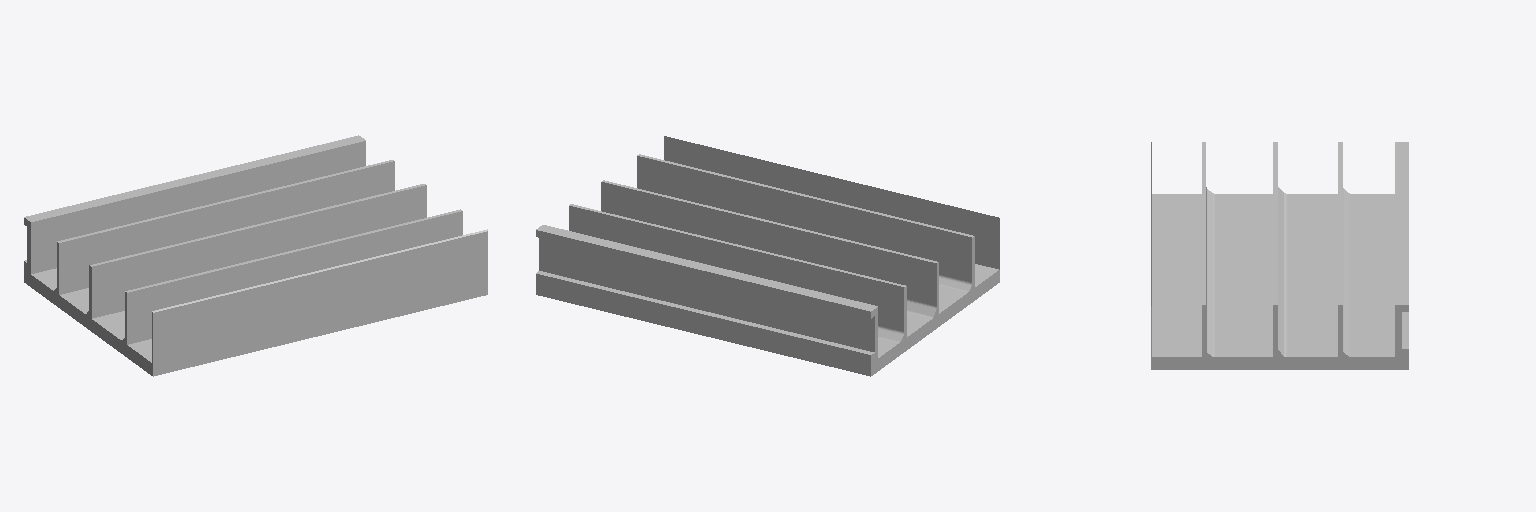
File: shelf v1.obj
3 views of the same model, side by side, from view 1: azimuth 30°, elevation 25°; view 2: azimuth 150°, elevation 25°; view 3: azimuth 270°, elevation 25° (orthographic).
Parts seen in each view (by area): view 1: Body1; view 2: Body1; view 3: Body1.
Boxes of the visible parts, x1=… form: Body1: x1=24, y1=135, x2=487, y2=376; Body1: x1=536, y1=136, x2=999, y2=376; Body1: x1=1151, y1=142, x2=1408, y2=369.
Size of the model in its own units: 2700 by 500 by 1800.